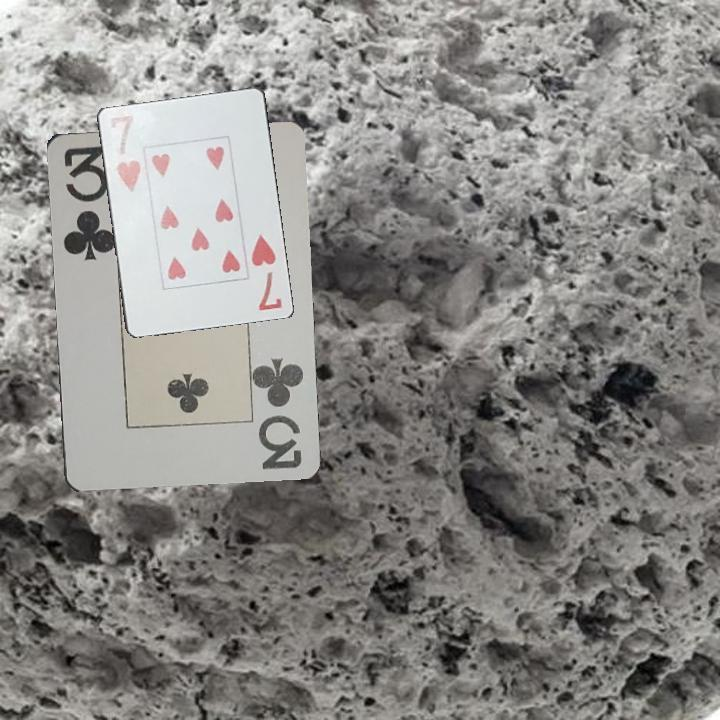3c: (59, 139, 114, 263), (254, 353, 306, 472)
7h: (105, 111, 143, 195), (247, 231, 284, 314)
